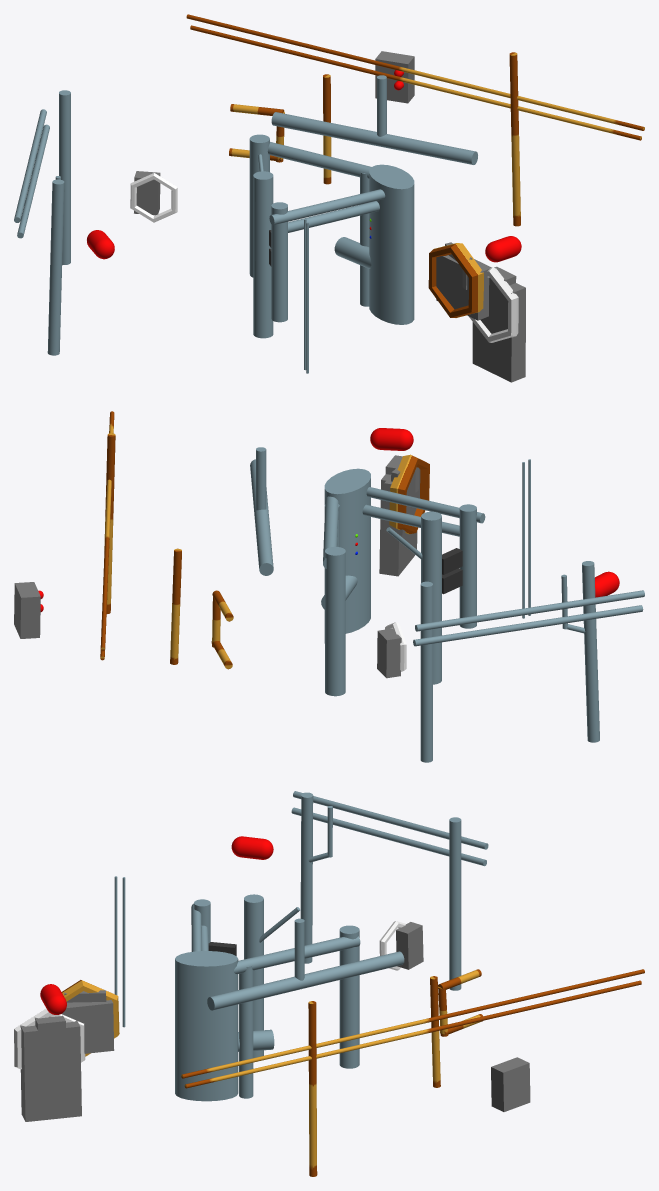
Rendered from Pipes.fbx.
The picture shows the model from 3 angles, top to bottom: view 1: azimuth 30°, elevation 25°; view 2: azimuth 150°, elevation 25°; view 3: azimuth 270°, elevation 25°; orthographic projection. The views are drawn at different scales.
Parts seen in each view (by area): view 1: Cylinder__5_, Cube__3_, Cylinder__7_, Cylinder__14_, Cylinder__9_, Cylinder__10_, Cylinder__21_, pTorus2__1_, Cylinder__15_, Cylinder__22_, Cube__5_, Cylinder__17_ (+16 smaller); view 2: Cylinder__5_, Cylinder__1_, Cylinder__7_, Cylinder__21_, Cylinder__22_, Cylinder__15_, Cylinder__11_, Cylinder__12_, pTorus2__1_, Cube__3_, Cube__8_, Cylinder__14_ (+11 smaller); view 3: Cylinder__5_, Cube__3_, Cylinder__14_, Cylinder__1_, Cylinder__9_, Cylinder__10_, Cylinder__22_, Cube__5_, Cube__8_, Cylinder__7_, Cylinder__21_, Cylinder (+12 smaller).
Part boxes in pixels (x1=…): Cylinder__5_: x1=369, y1=164, x2=414, y2=324; Cube__3_: x1=472, y1=282, x2=525, y2=382; Cylinder__7_: x1=253, y1=171, x2=273, y2=338; Cylinder__14_: x1=271, y1=112, x2=477, y2=164; Cylinder__9_: x1=186, y1=14, x2=644, y2=130; Cylinder__10_: x1=190, y1=25, x2=641, y2=140; Cylinder__21_: x1=47, y1=179, x2=64, y2=355; pTorus2__1_: x1=428, y1=243, x2=483, y2=317; Cylinder__15_: x1=271, y1=202, x2=287, y2=322; Cylinder__22_: x1=59, y1=90, x2=70, y2=264; Cube__5_: x1=436, y1=255, x2=491, y2=320; Cylinder__17_: x1=509, y1=52, x2=520, y2=226; Cylinder__5_: x1=324, y1=468, x2=370, y2=633; Cylinder__1_: x1=325, y1=546, x2=345, y2=696; Cylinder__7_: x1=421, y1=511, x2=441, y2=684; Cylinder__21_: x1=582, y1=561, x2=599, y2=742; Cylinder__22_: x1=420, y1=581, x2=432, y2=762; Cylinder__15_: x1=459, y1=504, x2=476, y2=628; Cylinder__11_: x1=413, y1=605, x2=643, y2=646; Cylinder__12_: x1=415, y1=590, x2=644, y2=631; pTorus2__1_: x1=389, y1=454, x2=429, y2=534; Cube__3_: x1=379, y1=474, x2=417, y2=576; Cube__8_: x1=14, y1=582, x2=40, y2=638; Cylinder__14_: x1=250, y1=459, x2=273, y2=575; Cylinder__5_: x1=175, y1=951, x2=238, y2=1101; Cube__3_: x1=20, y1=1020, x2=81, y2=1121; Cylinder__14_: x1=207, y1=951, x2=404, y2=1010; Cylinder__1_: x1=339, y1=925, x2=359, y2=1068; Cylinder__9_: x1=181, y1=969, x2=644, y2=1078; Cylinder__10_: x1=184, y1=980, x2=641, y2=1088; Cylinder__22_: x1=449, y1=817, x2=461, y2=990; Cube__5_: x1=62, y1=1000, x2=114, y2=1053; Cube__8_: x1=491, y1=1057, x2=530, y2=1111; Cylinder__7_: x1=244, y1=894, x2=263, y2=1057; Cylinder__21_: x1=300, y1=792, x2=313, y2=963; Cylinder: x1=239, y1=966, x2=253, y2=1098.
Bounding box in the file's own units: 3101 × 1061 × 2975.
8 materials, 1 textured.
